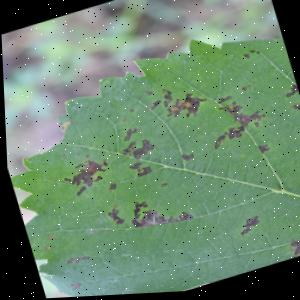Folha: (1, 15, 300, 300)
Fungo: (40, 50, 300, 253), (102, 185, 192, 243), (198, 87, 269, 151), (142, 78, 209, 129), (113, 123, 159, 181), (126, 199, 191, 237), (57, 155, 112, 198), (159, 89, 209, 125), (138, 280, 213, 295), (229, 107, 266, 135), (142, 87, 173, 112), (126, 208, 157, 231), (126, 137, 154, 162), (280, 85, 300, 118), (233, 216, 259, 238), (281, 231, 300, 261), (125, 159, 150, 179), (215, 101, 241, 119), (103, 206, 123, 228), (156, 87, 174, 109), (128, 199, 147, 219), (62, 252, 87, 266), (222, 126, 241, 143), (162, 104, 181, 121), (117, 141, 136, 157), (209, 135, 227, 151), (280, 85, 297, 101), (118, 128, 137, 142), (116, 109, 134, 123), (56, 118, 72, 133), (133, 166, 149, 178), (144, 100, 161, 111), (178, 152, 193, 164), (214, 96, 230, 106), (125, 162, 140, 172), (236, 228, 249, 239), (290, 103, 300, 117), (254, 145, 268, 155), (64, 281, 79, 290), (104, 183, 116, 193), (73, 186, 85, 195), (70, 161, 83, 169), (160, 99, 170, 109), (247, 50, 258, 58), (112, 218, 123, 226), (142, 89, 151, 98), (239, 86, 250, 93), (282, 94, 293, 100), (39, 244, 48, 251), (44, 233, 53, 239), (156, 182, 165, 188), (241, 54, 248, 61), (144, 91, 152, 97), (126, 109, 133, 114), (118, 118, 124, 123), (16, 202, 19, 207)
